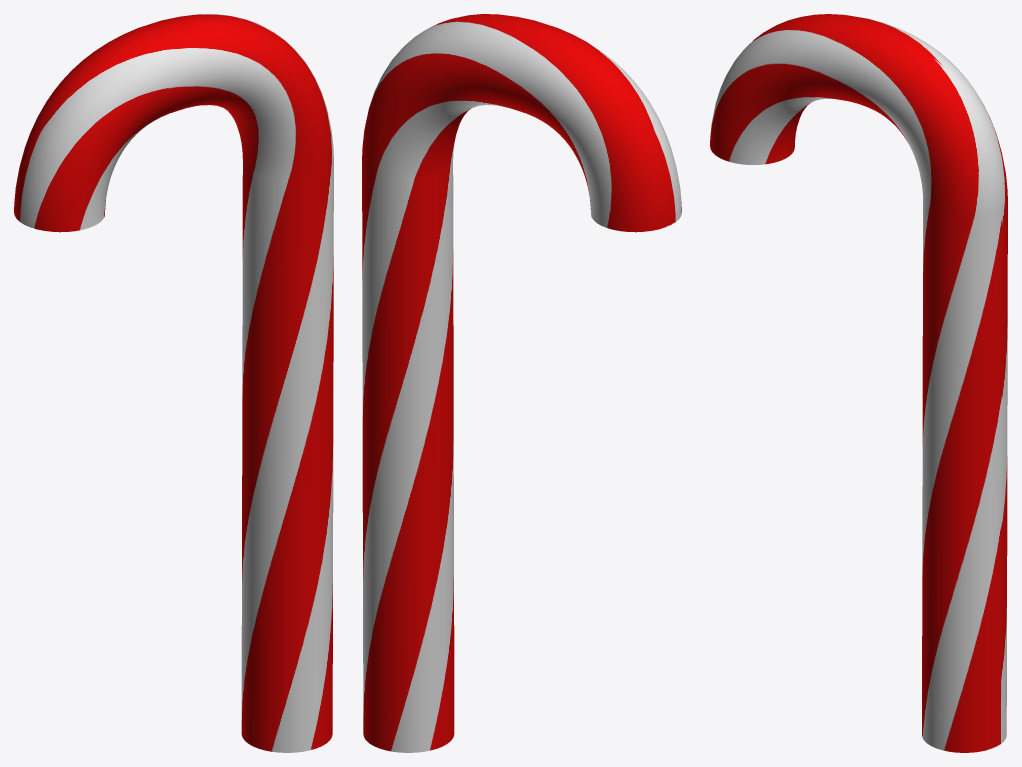
The model's file is candy.glb.
3 renders of one model, left to right at view 1: azimuth 30°, elevation 25°; view 2: azimuth 150°, elevation 25°; view 3: azimuth 330°, elevation 25°, orthographic. The views are drawn at different scales.
Visible parts, largest first — view 1: Sweep-Nuovo; view 2: Sweep-Nuovo; view 3: Sweep-Nuovo.
Part boxes in pixels (box(x1,y1,x2,y2)): Sweep-Nuovo: box(14, 14, 333, 752); Sweep-Nuovo: box(362, 14, 681, 752); Sweep-Nuovo: box(710, 14, 1007, 752).
Bounding box in the file's own units: 1.19 × 2.73 × 0.3051.
2 materials, 1 textured.
